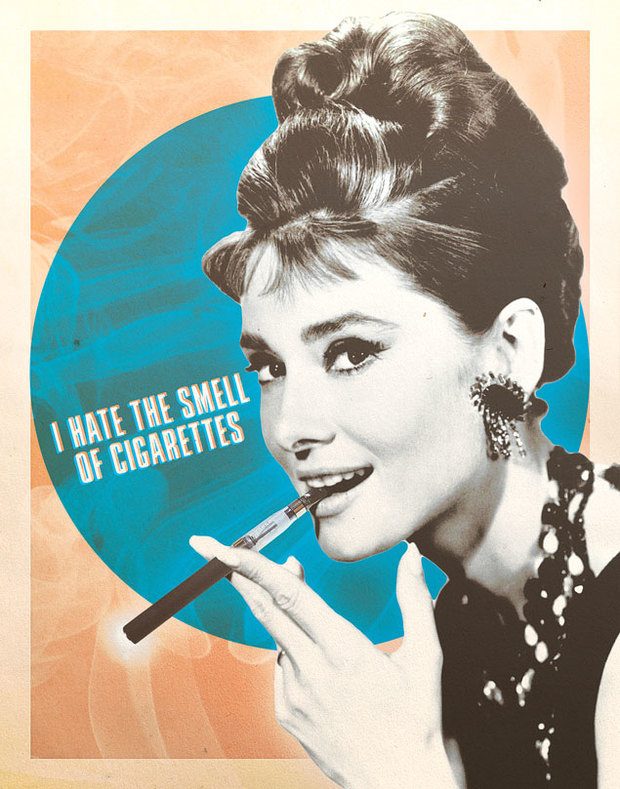cigarette: (270, 470, 344, 526)
